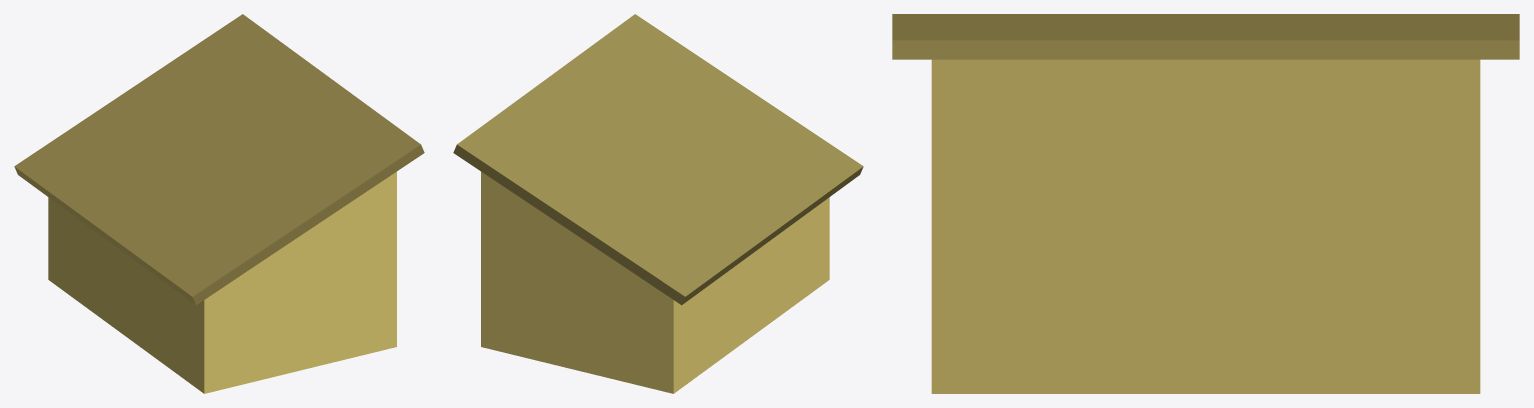
The model's file is result.glb.
3 renders of one model, left to right at view 1: azimuth 30°, elevation 25°; view 2: azimuth 150°, elevation 25°; view 3: azimuth 270°, elevation 25°, orthographic. The views are drawn at different scales.
Parts seen in each view (by area): view 1: 0c4e72e9-d9a1-4793-a5a8-aafd130a5f2b__undefined, 8eaa8091-0248-4a77-be00-6cbc87d562af__undefined; view 2: 0c4e72e9-d9a1-4793-a5a8-aafd130a5f2b__undefined, 8eaa8091-0248-4a77-be00-6cbc87d562af__undefined; view 3: 8eaa8091-0248-4a77-be00-6cbc87d562af__undefined, 0c4e72e9-d9a1-4793-a5a8-aafd130a5f2b__undefined.
Boxes of the visible parts, <box> form: 0c4e72e9-d9a1-4793-a5a8-aafd130a5f2b__undefined: <box>14,14,424,305</box>; 8eaa8091-0248-4a77-be00-6cbc87d562af__undefined: <box>48,171,396,393</box>; 0c4e72e9-d9a1-4793-a5a8-aafd130a5f2b__undefined: <box>453,14,863,305</box>; 8eaa8091-0248-4a77-be00-6cbc87d562af__undefined: <box>481,171,829,393</box>; 8eaa8091-0248-4a77-be00-6cbc87d562af__undefined: <box>931,59,1480,393</box>; 0c4e72e9-d9a1-4793-a5a8-aafd130a5f2b__undefined: <box>892,14,1519,59</box>.
Bounding box in the file's own units: 601 × 514 × 800.
